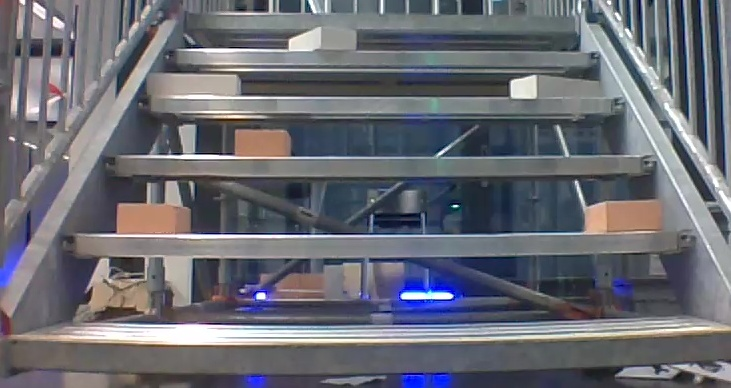brick: (584, 199, 662, 231), (147, 73, 240, 97), (116, 203, 189, 233), (510, 74, 599, 98), (288, 27, 355, 50), (235, 129, 291, 156)
edge: (8, 330, 729, 373), (62, 231, 694, 257), (105, 155, 656, 176), (138, 97, 624, 113), (185, 12, 579, 31), (164, 49, 600, 66)
